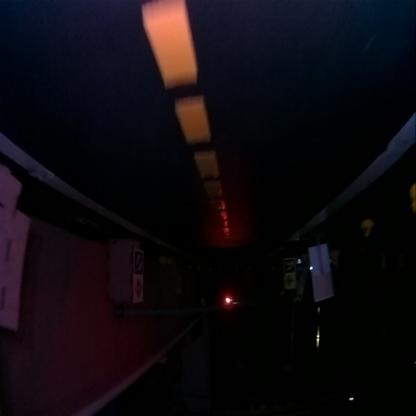Duckie: (361, 220, 373, 238)
Intersection sign: (284, 276, 294, 288)
QR code: (134, 250, 142, 276), (284, 260, 294, 274)
Signal sign: (134, 278, 142, 300)
Traffic light: (223, 297, 232, 306)
